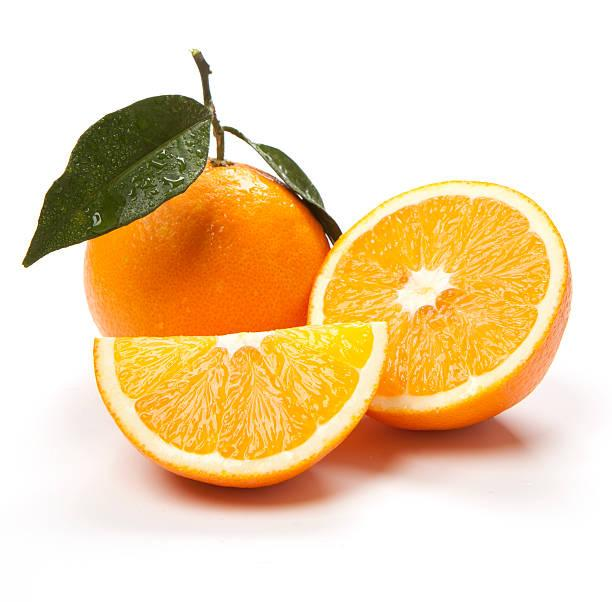orange: (44, 110, 360, 355), (320, 180, 585, 444), (85, 317, 419, 494)
